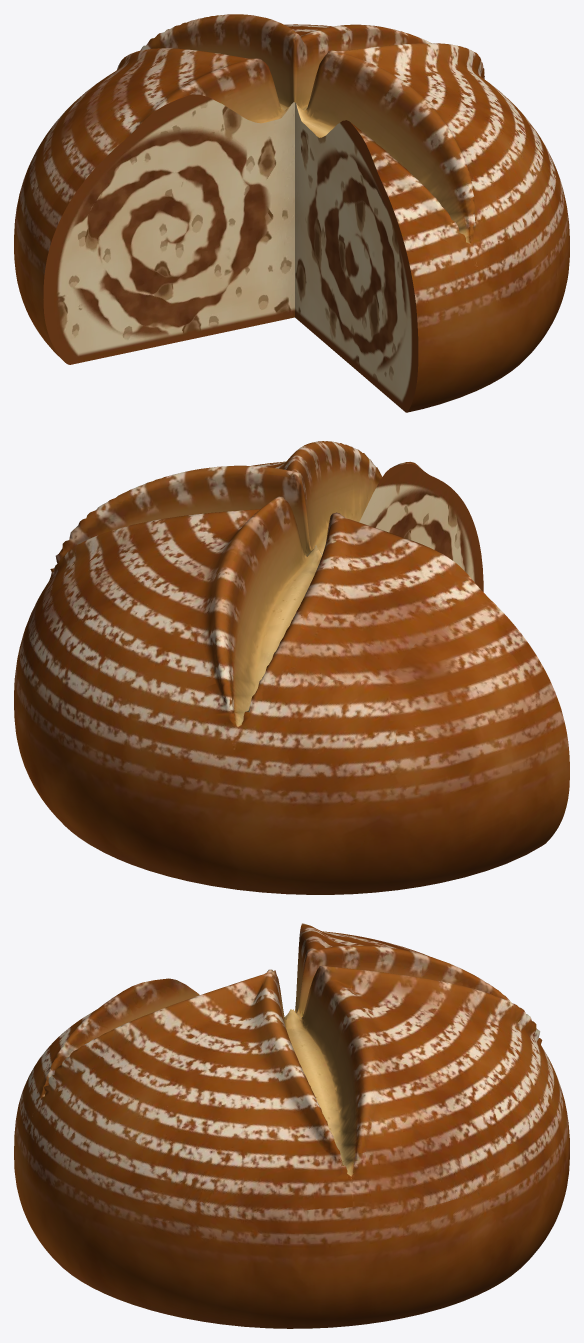
Rendered from campagne--cinnamon-swirl.glb.
3 renders of one model, top to bottom at view 1: azimuth 30°, elevation 25°; view 2: azimuth 150°, elevation 25°; view 3: azimuth 270°, elevation 25°, orthographic. The views are drawn at different scales.
Visible parts, largest first — view 1: campagne_cinnamon-swirl; view 2: campagne_cinnamon-swirl; view 3: campagne_cinnamon-swirl.
Boxes of the visible parts, x1,y1,x2,y2 form: campagne_cinnamon-swirl: [14, 14, 569, 412]; campagne_cinnamon-swirl: [14, 441, 569, 894]; campagne_cinnamon-swirl: [14, 923, 569, 1328].
Size of the model in its own units: 0.9981 by 0.5303 by 0.9991.
1 material, 1 textured.
